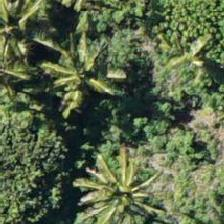coconut_tree: (73, 144, 163, 223)
